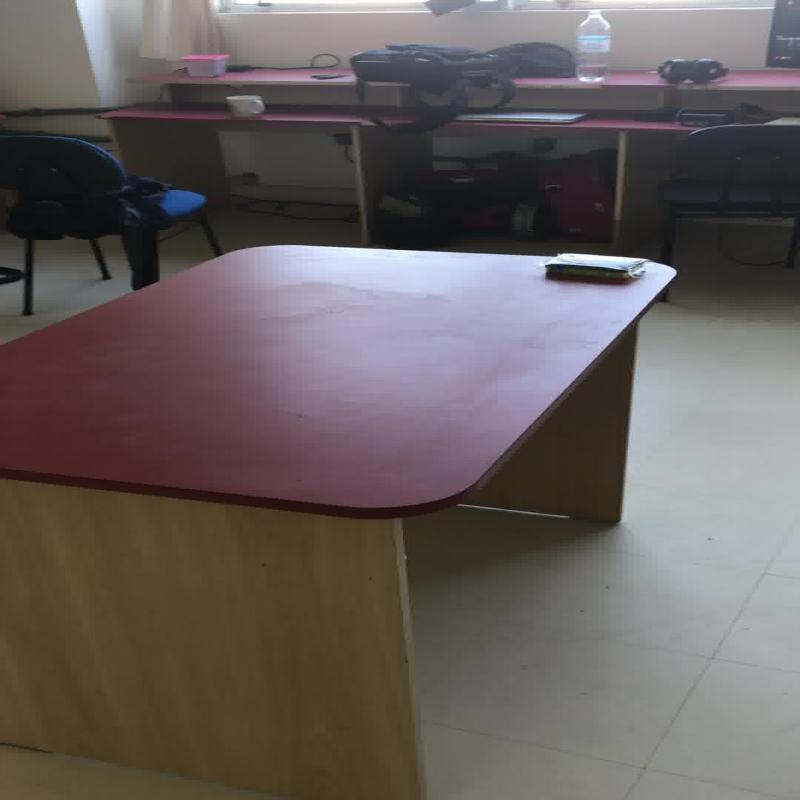sponge: (542, 251, 650, 280)
